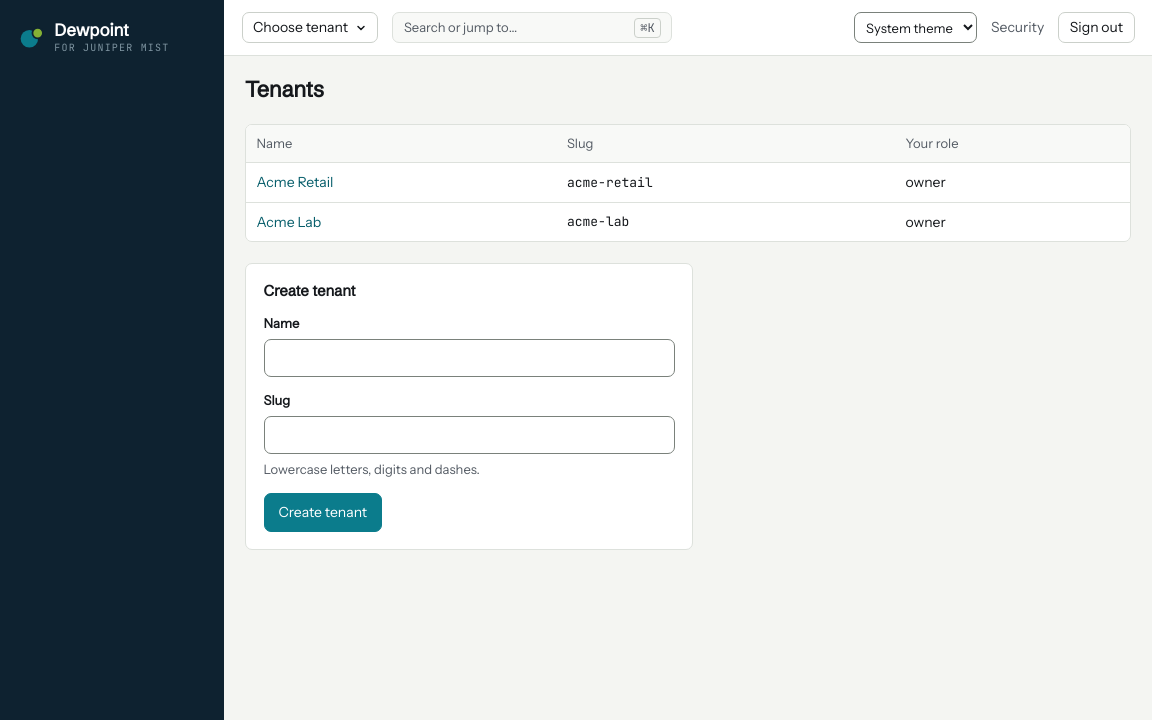
Scenario: opens a tenant chosen from the tenants page on its workflows (4b ruling 19; ledger M6)
Step 1. Click the link "Acme Lab" → [289, 222], box x1=256 y1=213 x2=321 y2=231
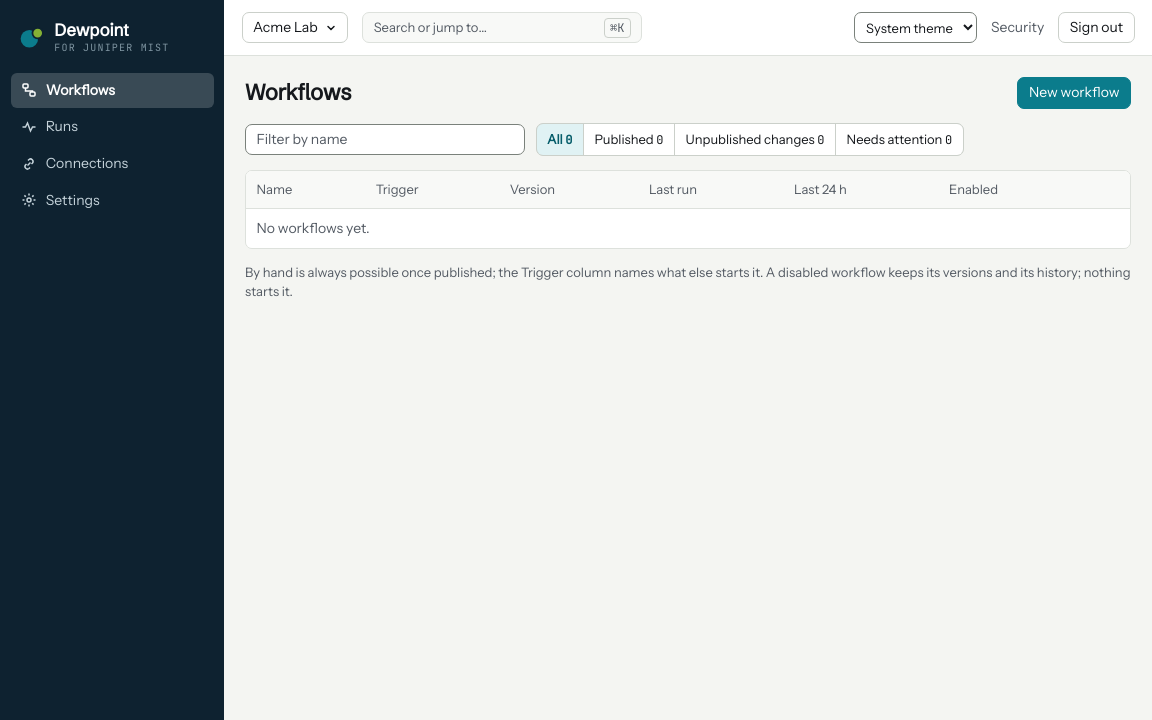
expect the heading "Workflows" is shown: met, box x1=245 y1=80 x2=351 y2=106
